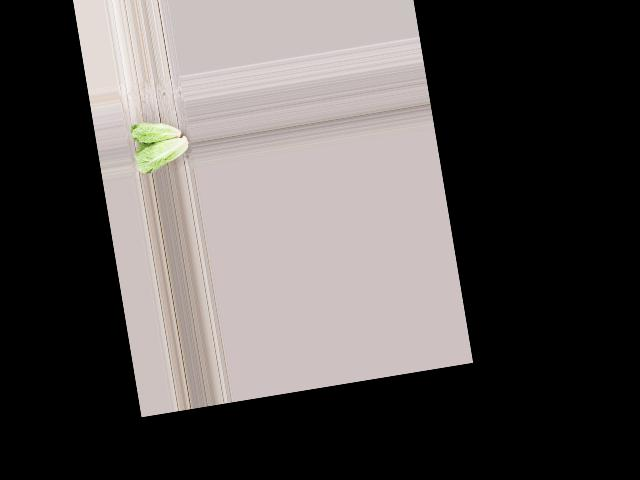lettuce: (131, 134, 195, 176)
